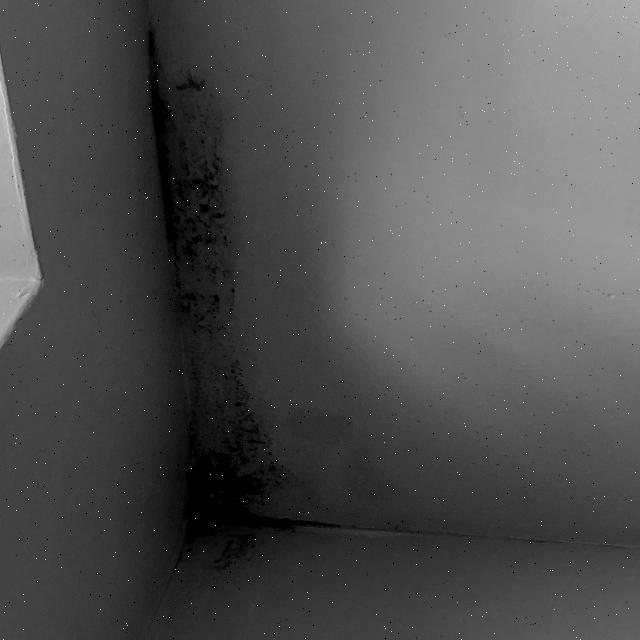stain marks: (119, 5, 347, 577)
